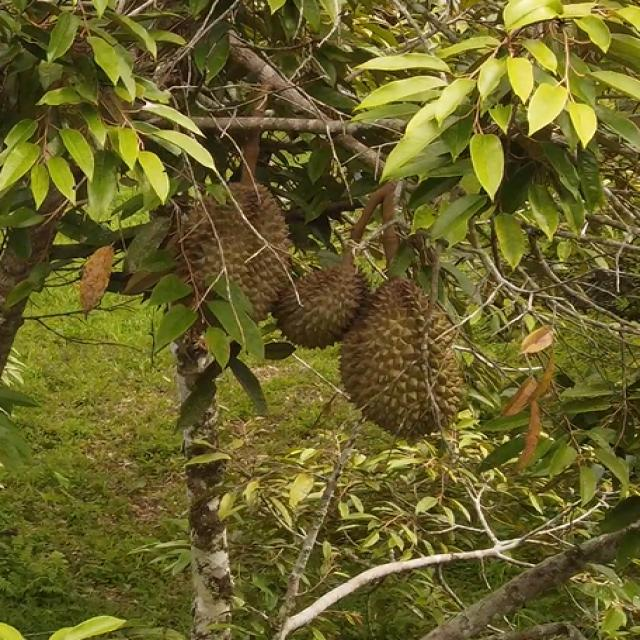mature: (182, 182, 291, 321)
